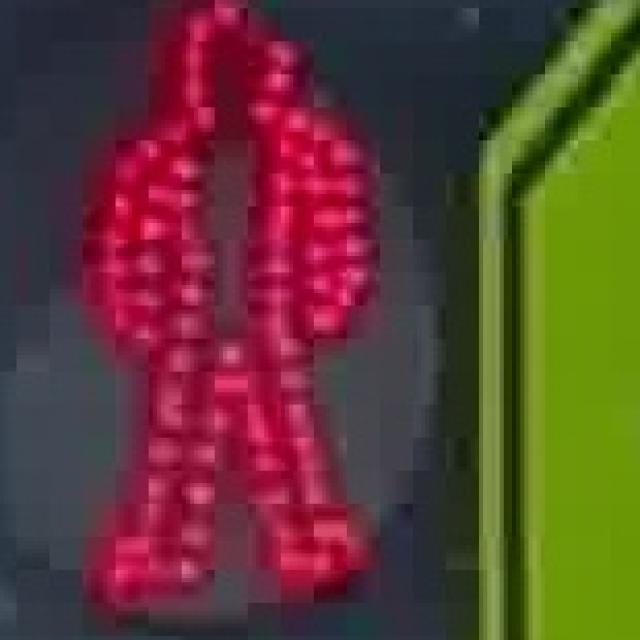red_light: (58, 4, 388, 611)
